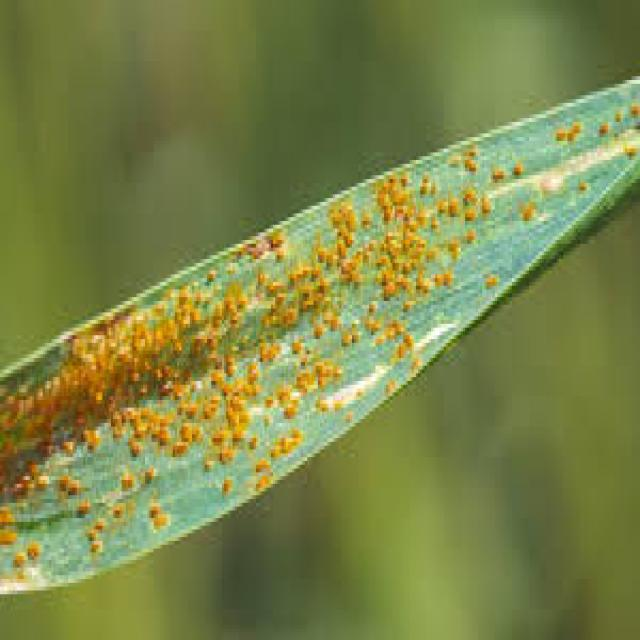leaf_rust: (0, 80, 638, 590)
